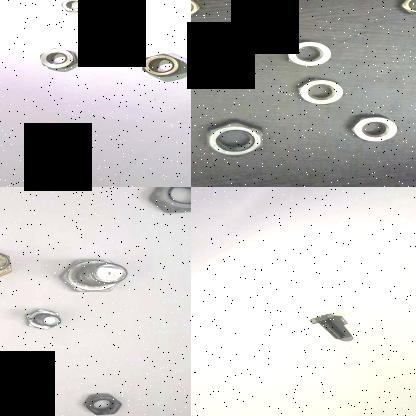Bolts: (58, 250, 148, 297), (305, 309, 357, 344), (23, 305, 70, 333)
NUTS: (204, 116, 275, 160), (72, 389, 136, 416), (295, 75, 347, 107), (348, 112, 400, 144), (282, 38, 334, 67), (140, 49, 186, 79), (144, 187, 191, 214), (36, 45, 80, 69), (198, 22, 240, 44), (232, 0, 286, 11), (57, 0, 95, 15), (0, 404, 45, 416), (397, 0, 416, 17), (0, 359, 11, 387), (191, 0, 206, 18)
